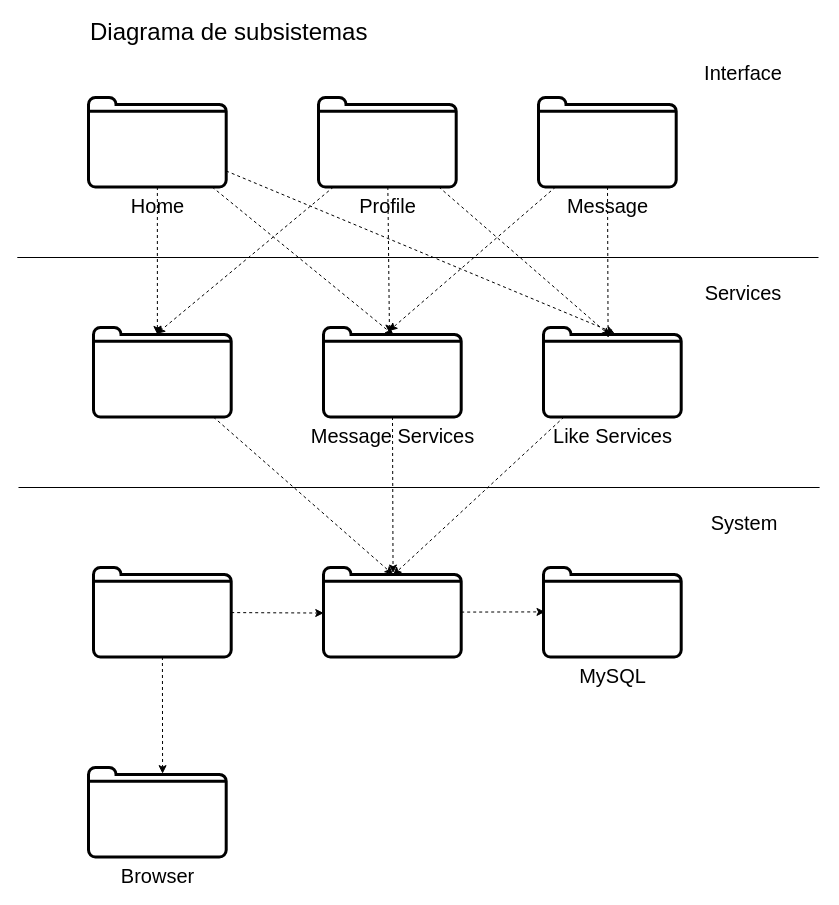
Some shapes in this 839 by 905 pixel diagram are drawn without their labels. Each missing label, with the centre of its shape:
Python (Flask): [392,612]
React: [162,612]
User Services: [162,372]
